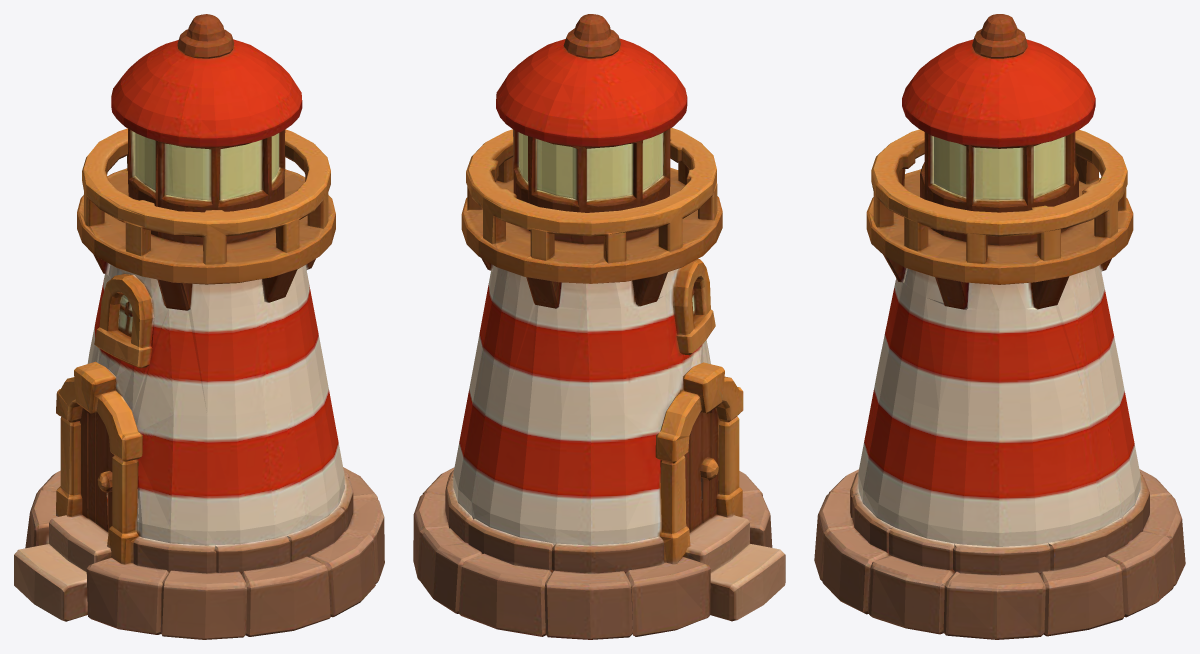
The model's file is lighthouse-BzFl94X-.glb.
The picture shows the model from 3 angles, left to right: view 1: azimuth 30°, elevation 25°; view 2: azimuth 150°, elevation 25°; view 3: azimuth 270°, elevation 25°; orthographic projection.
Parts seen in each view (by area): view 1: tripo_node_69913811-22a3-45d4-b340-85e428c73a31; view 2: tripo_node_69913811-22a3-45d4-b340-85e428c73a31; view 3: tripo_node_69913811-22a3-45d4-b340-85e428c73a31.
Boxes of the visible parts, left/top/right/bottom form: tripo_node_69913811-22a3-45d4-b340-85e428c73a31: left=14, top=14, right=384, bottom=639; tripo_node_69913811-22a3-45d4-b340-85e428c73a31: left=413, top=14, right=785, bottom=639; tripo_node_69913811-22a3-45d4-b340-85e428c73a31: left=814, top=14, right=1185, bottom=639.
Bounding box in the file's own units: 0.6095 × 0.9763 × 0.598.
1 material, 1 textured.
